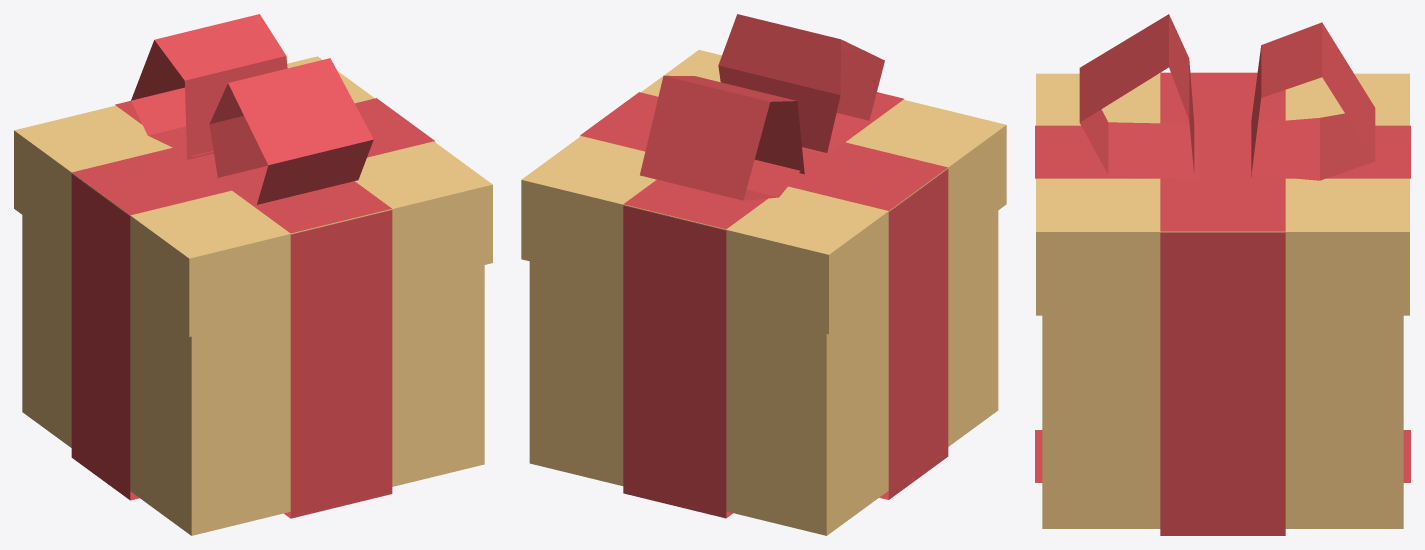
The model's file is gift box.03.fbx.
The picture shows the model from 3 angles, left to right: view 1: azimuth 30°, elevation 25°; view 2: azimuth 150°, elevation 25°; view 3: azimuth 270°, elevation 25°; orthographic projection. The views are drawn at different scales.
Visible parts, largest first — view 1: gift box, gift box ribbon; view 2: gift box, gift box ribbon; view 3: gift box, gift box ribbon.
Part boxes in pixels (<box>): gift box: <box>14,56,492,535</box>; gift box ribbon: <box>71,14,434,518</box>; gift box: <box>521,50,1006,535</box>; gift box ribbon: <box>580,14,948,518</box>; gift box: <box>1036,73,1409,528</box>; gift box ribbon: <box>1035,14,1410,535</box>.
Size of the model in its own units: 208 by 254 by 208.
